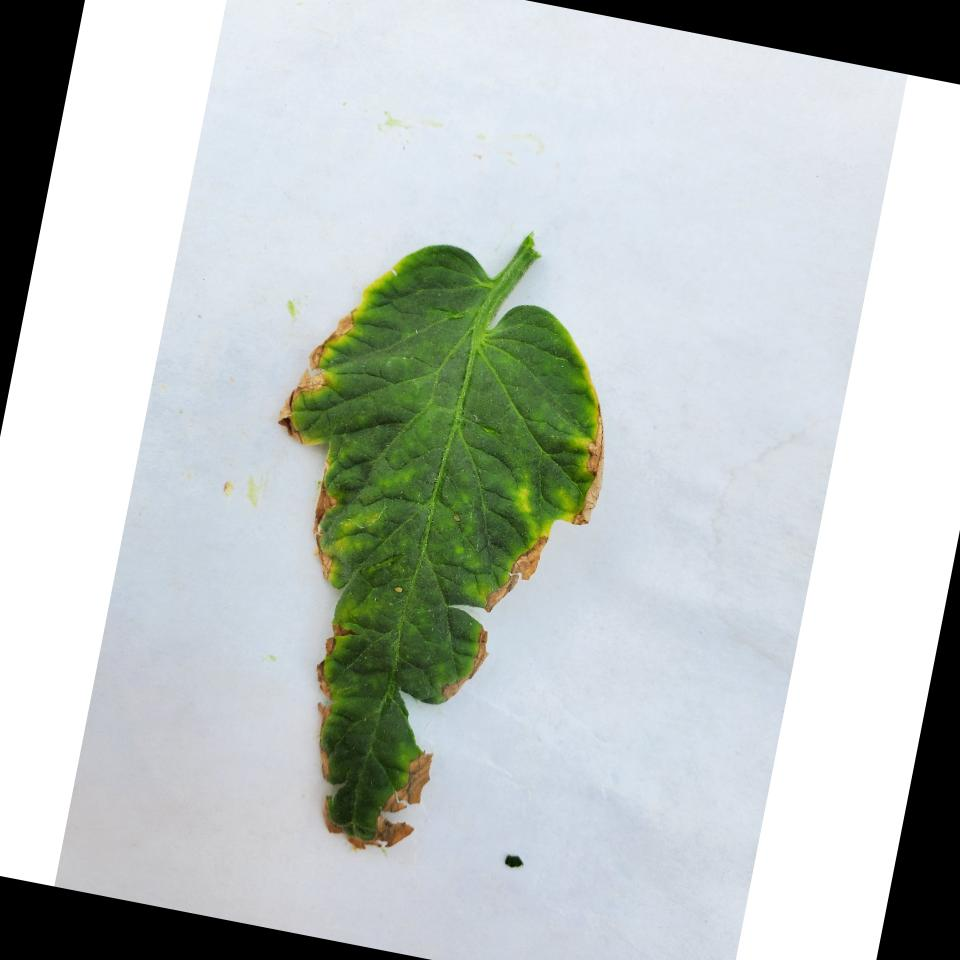tomato_bacterial_blight: (209, 257, 637, 879)
